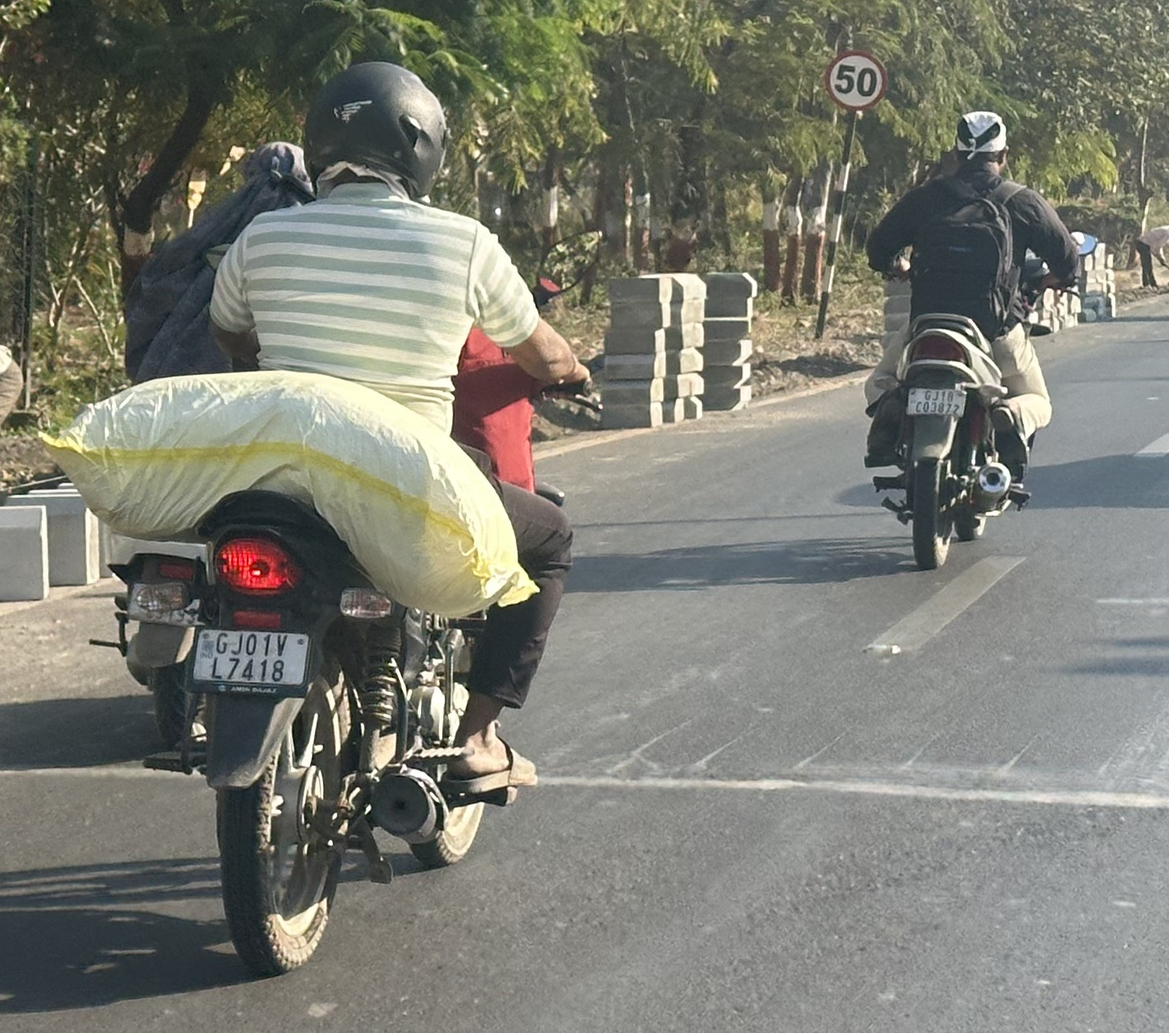BikeWithRider: (196, 52, 606, 981), (83, 122, 323, 754), (852, 110, 1103, 579)
Helmet: (295, 54, 456, 210)
NoHelmet: (235, 135, 317, 212), (945, 108, 1018, 181)
